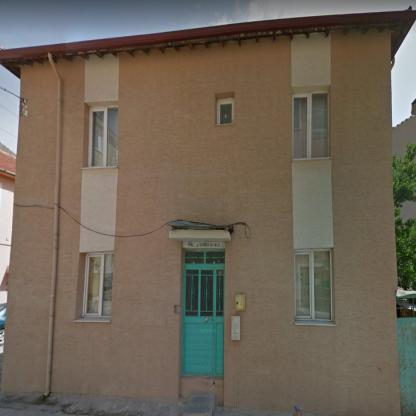door: (181, 251, 224, 376)
window: (294, 249, 332, 321), (293, 90, 328, 158), (82, 252, 113, 318), (87, 105, 117, 168), (216, 98, 234, 124)
